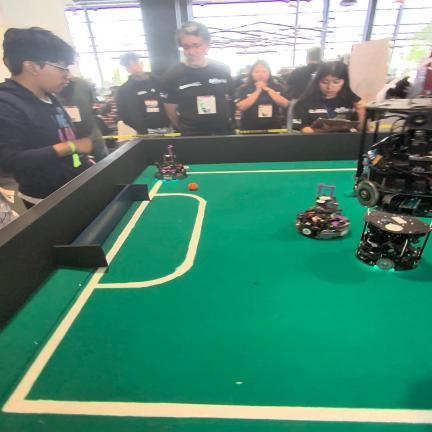cancha: (0, 161, 432, 432)
limites: (2, 180, 432, 424), (191, 168, 354, 174)
pelota: (189, 183, 198, 190)
porteria: (53, 184, 149, 268)
robot: (354, 99, 432, 218), (356, 209, 432, 271), (295, 184, 350, 239), (154, 145, 187, 181)
